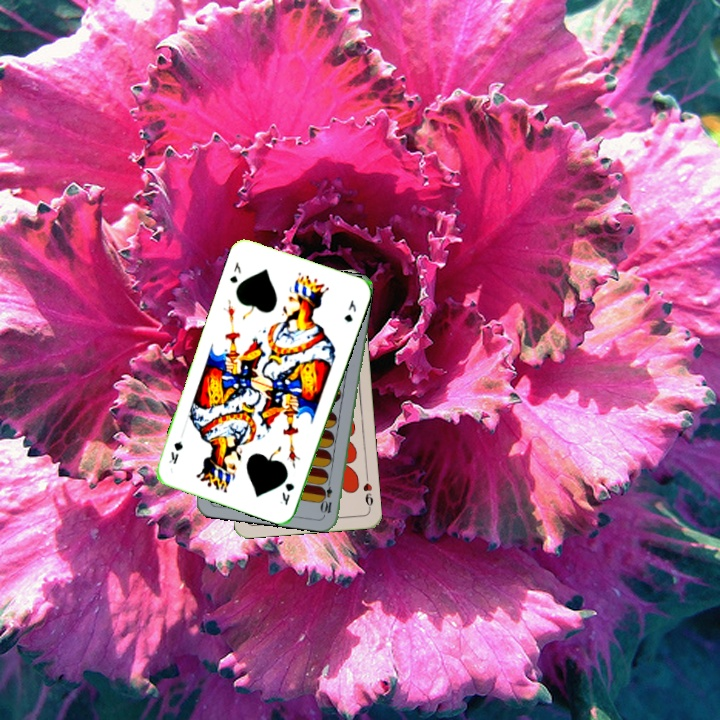E10: (319, 475, 335, 516)
GK: (276, 479, 297, 508), (225, 258, 244, 286)
H9: (359, 472, 376, 512)
